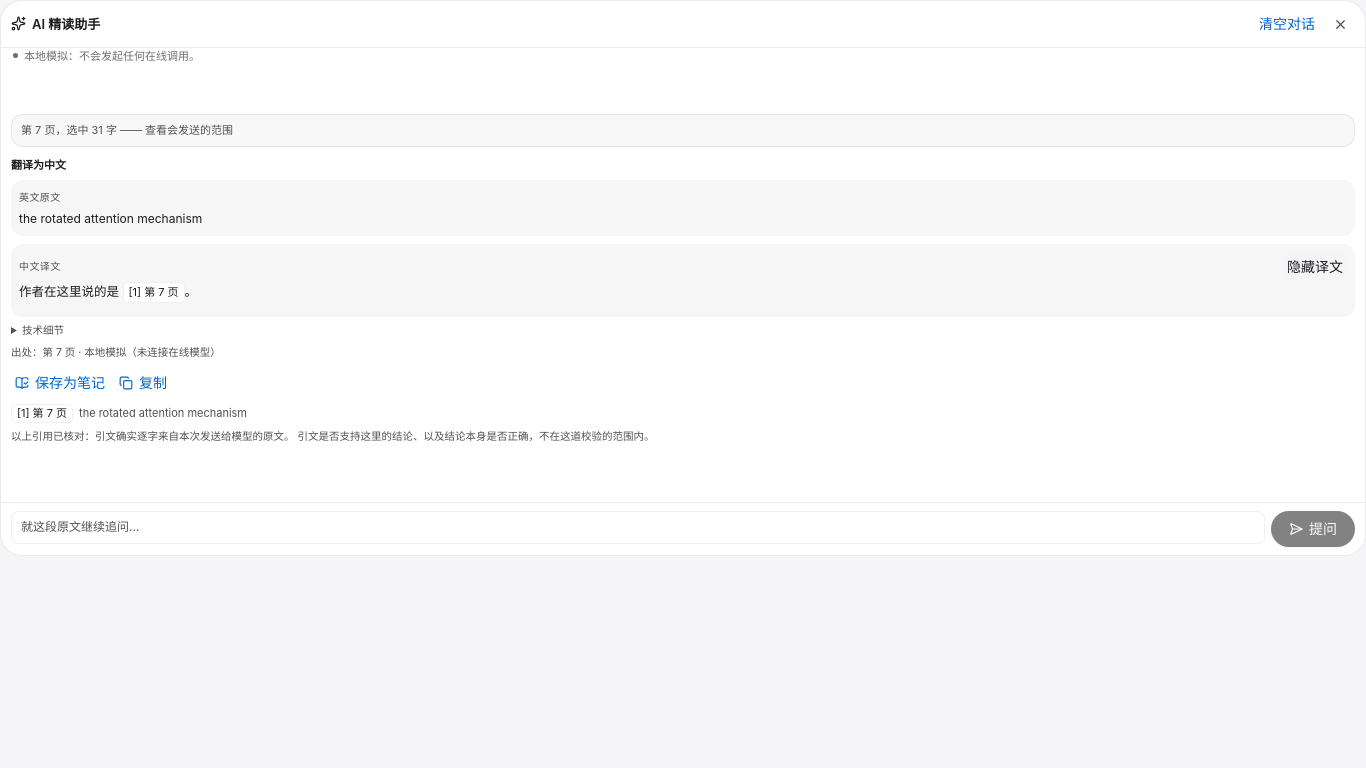
AiPanel › translation › can be collapsed so the panel stops covering the page
This screenshot has width=1366, height=768.
Click the button "隐藏译文" at (1315, 266), box [1283,251,1347,281]
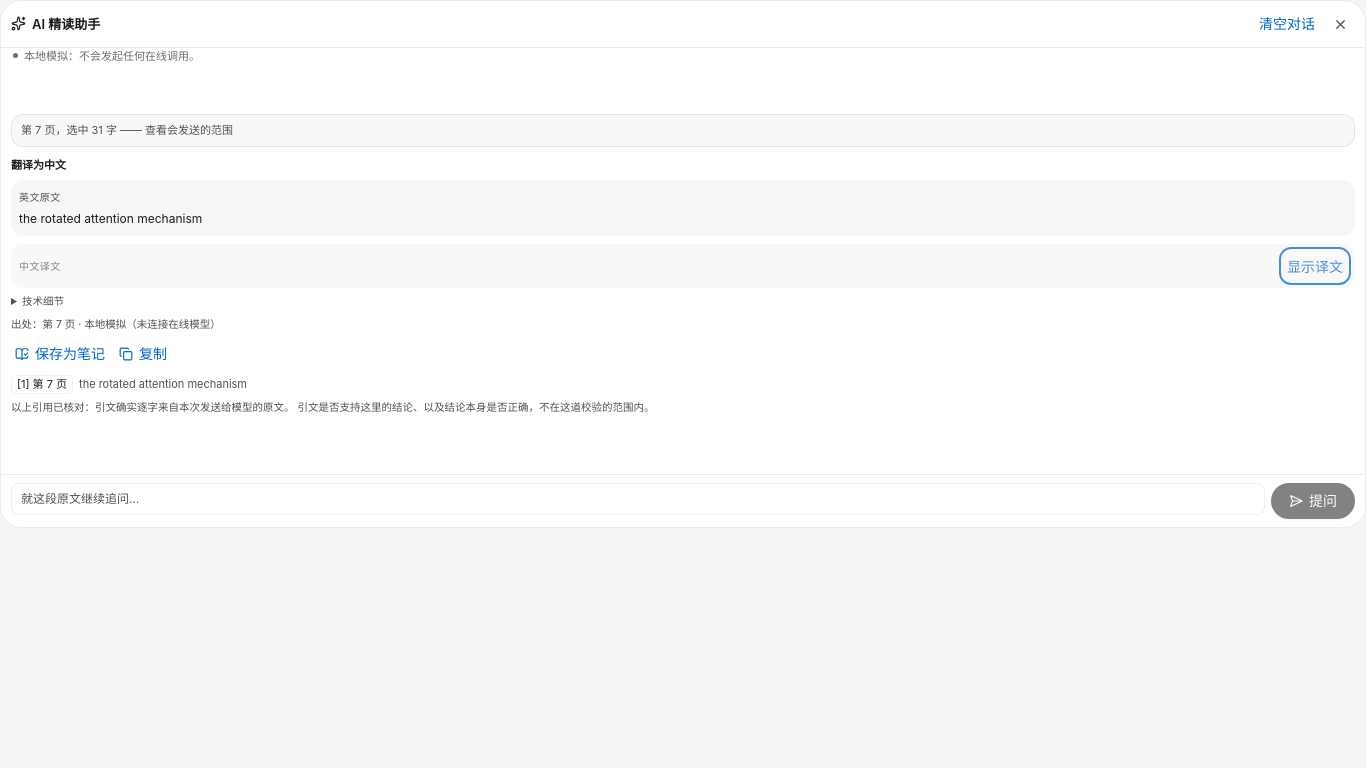
Expected: the element with class "ai-original" shows "the rotated attention mechanism", [19,212,202,226]
Result: the text "作者在这里说的是" is gone
Click the button "显示译文" at (1315, 266), box [1283,251,1347,281]
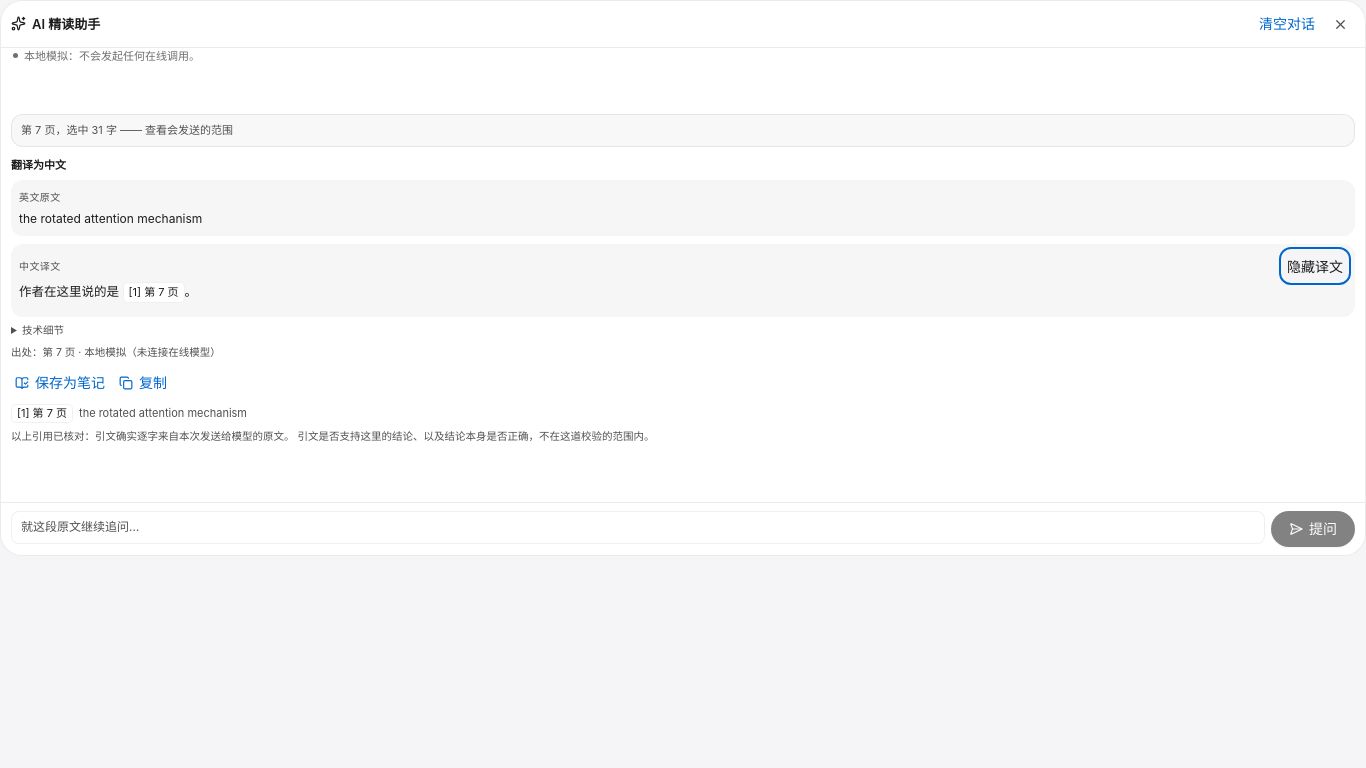
Result: the text "作者在这里说的是" is shown at [19,284,122,299]
